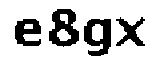8: (47, 7, 81, 47)
e: (13, 16, 43, 50)
g: (83, 17, 114, 58)
x: (115, 16, 147, 49)
